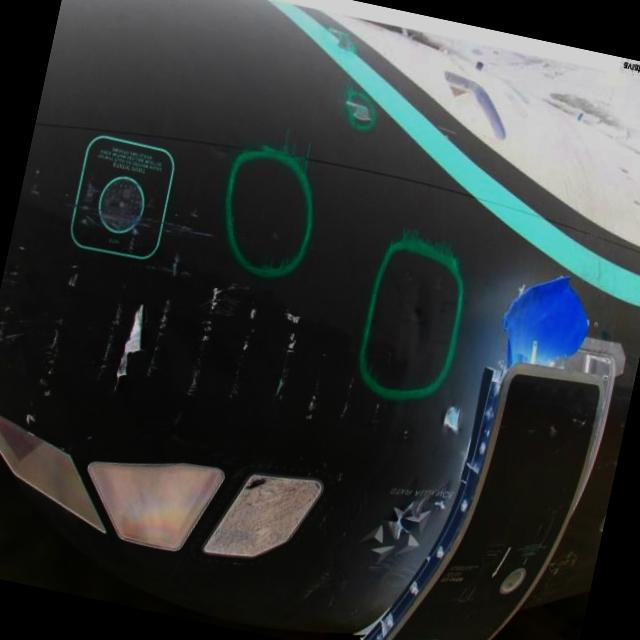crack: (100, 298, 162, 402)
